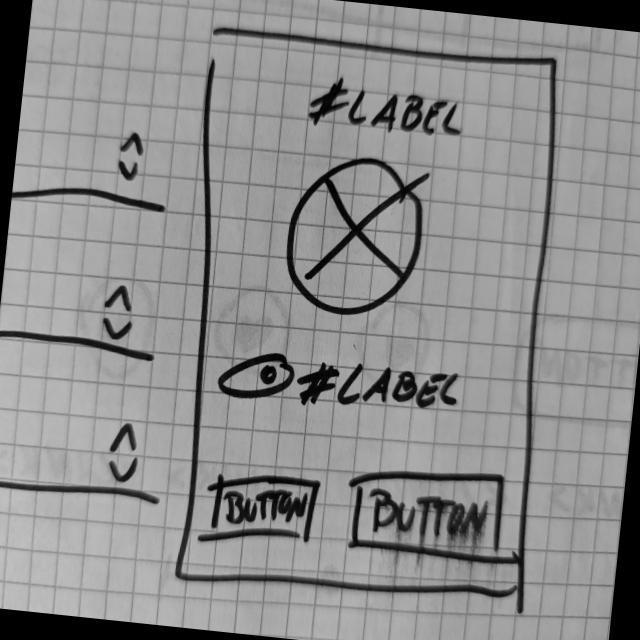button: (347, 457, 512, 568), (205, 465, 324, 552)
container: (148, 21, 580, 622)
image: (278, 147, 434, 326)
label: (294, 354, 473, 427), (302, 72, 472, 145)
number-input: (1, 405, 171, 520), (11, 117, 178, 228), (1, 269, 166, 369)
toggle: (214, 347, 298, 408)
